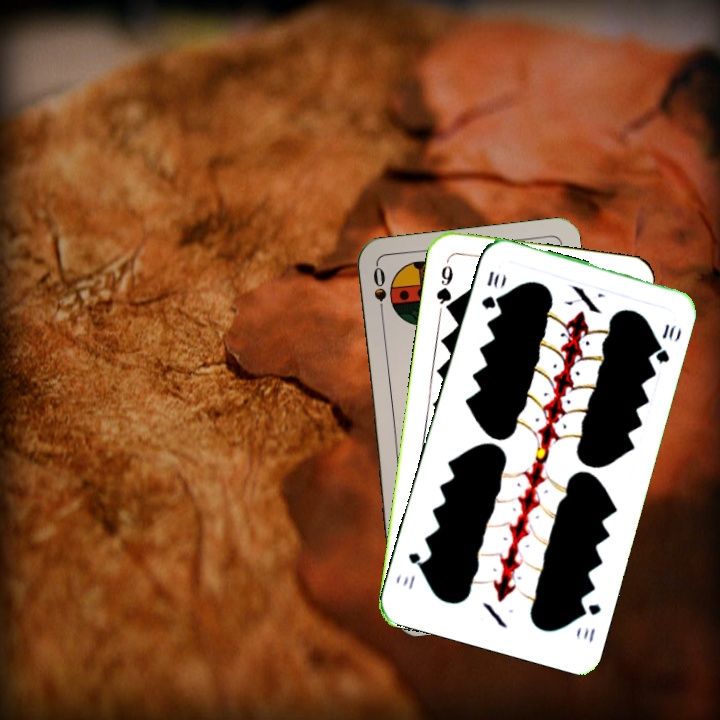G10: (575, 599, 604, 646), (477, 267, 502, 312)
G9: (432, 261, 455, 315)
SO: (369, 263, 389, 322)
